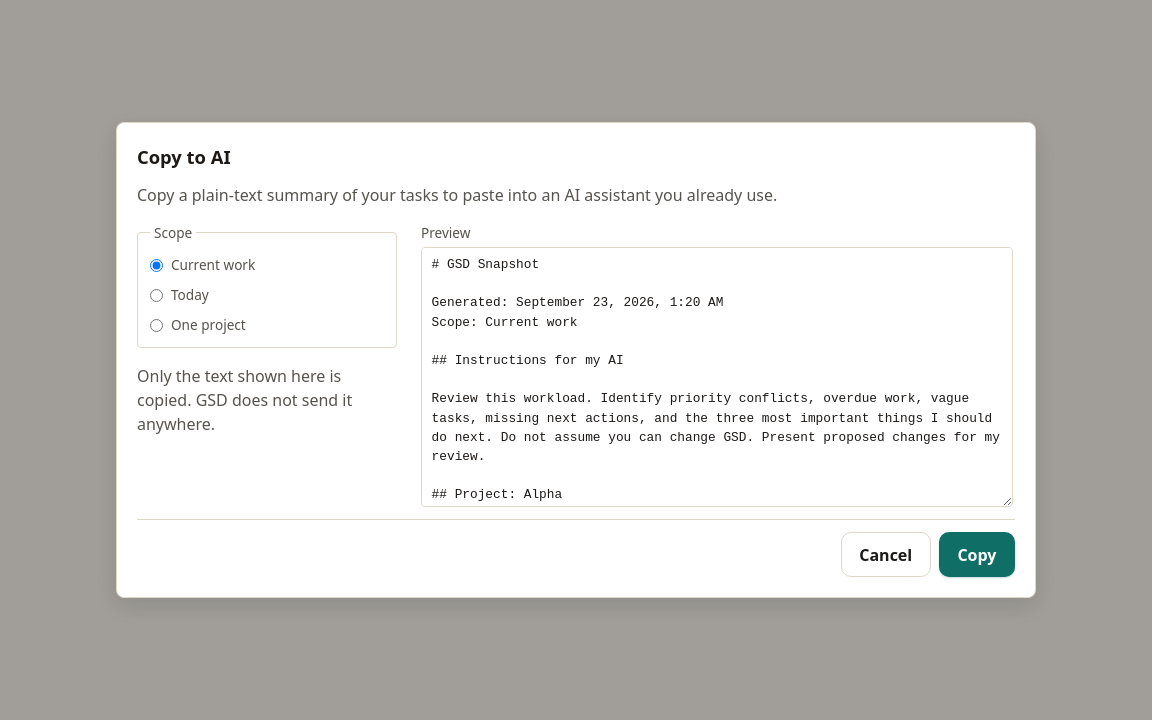
Test: CopyToAIDialog › shows a usable error and keeps the preview selectable when clipboard access fails
The image size is (1152, 720).
Click the button "Copy" at (977, 554), box x1=939 y1=532 x2=1015 y2=577
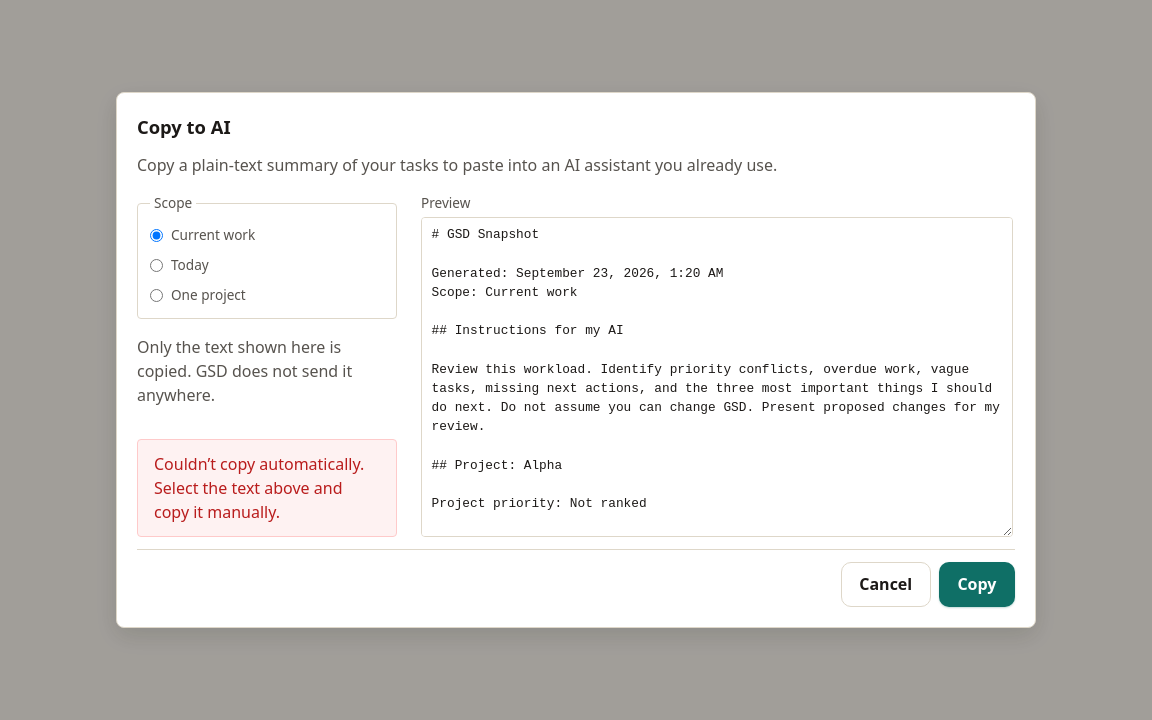
Check: the text box labelled "Preview" is enabled, box x1=421 y1=217 x2=1013 y2=537
Check: the message "Couldn’t copy automatically. Select the text above and copy it manually." is shown, box x1=137 y1=439 x2=397 y2=537
